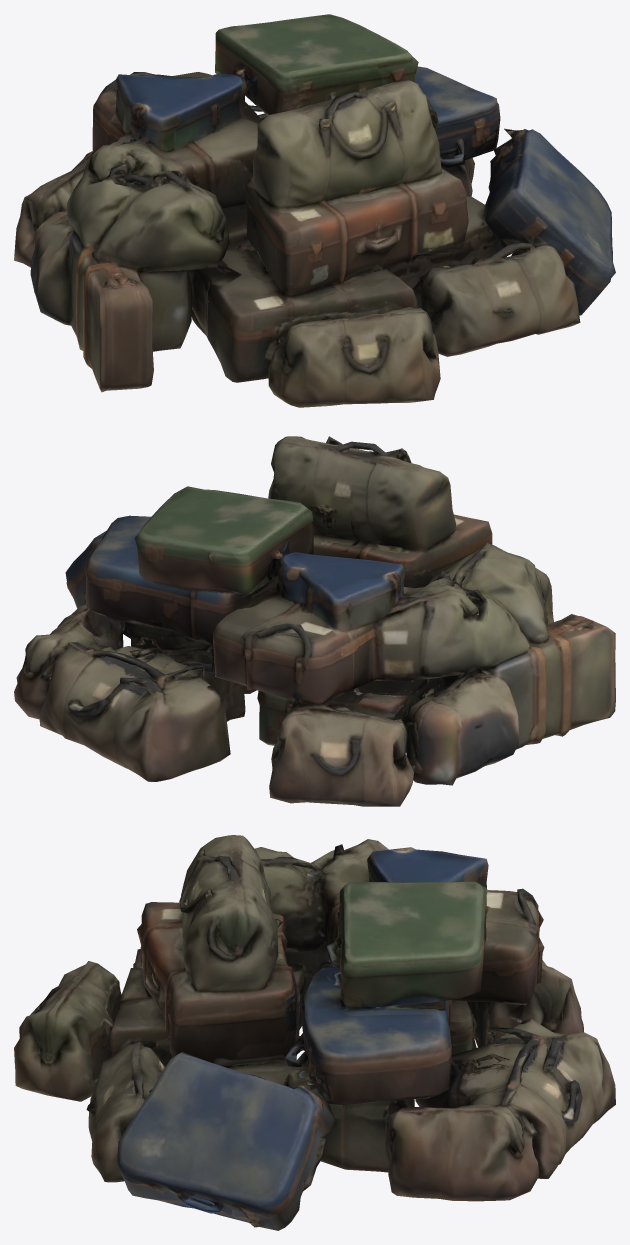
Rendered from lost-luggage.glb.
The picture shows the model from 3 angles, top to bottom: view 1: azimuth 30°, elevation 25°; view 2: azimuth 150°, elevation 25°; view 3: azimuth 270°, elevation 25°; orthographic projection. The views are drawn at different scales.
Parts seen in each view (by area): view 1: Mesh1.0; view 2: Mesh1.0; view 3: Mesh1.0.
Boxes of the visible parts, x1,y1,x2,y2 form: Mesh1.0: [14, 14, 615, 407]; Mesh1.0: [14, 436, 615, 806]; Mesh1.0: [14, 835, 615, 1230].
Size of the model in its own units: 7.17 by 3 by 6.74.
1 material, 1 textured.
